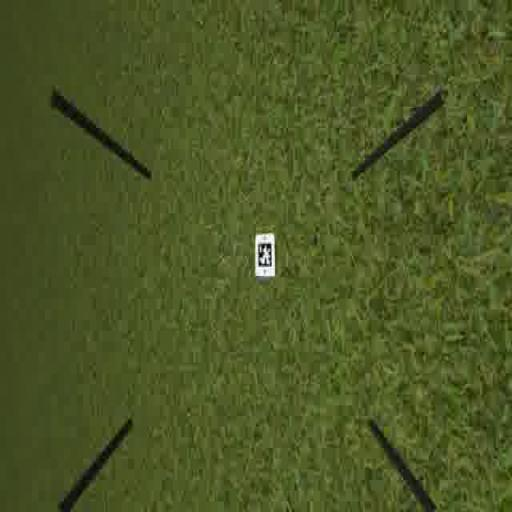UGV: (252, 228, 278, 281)
